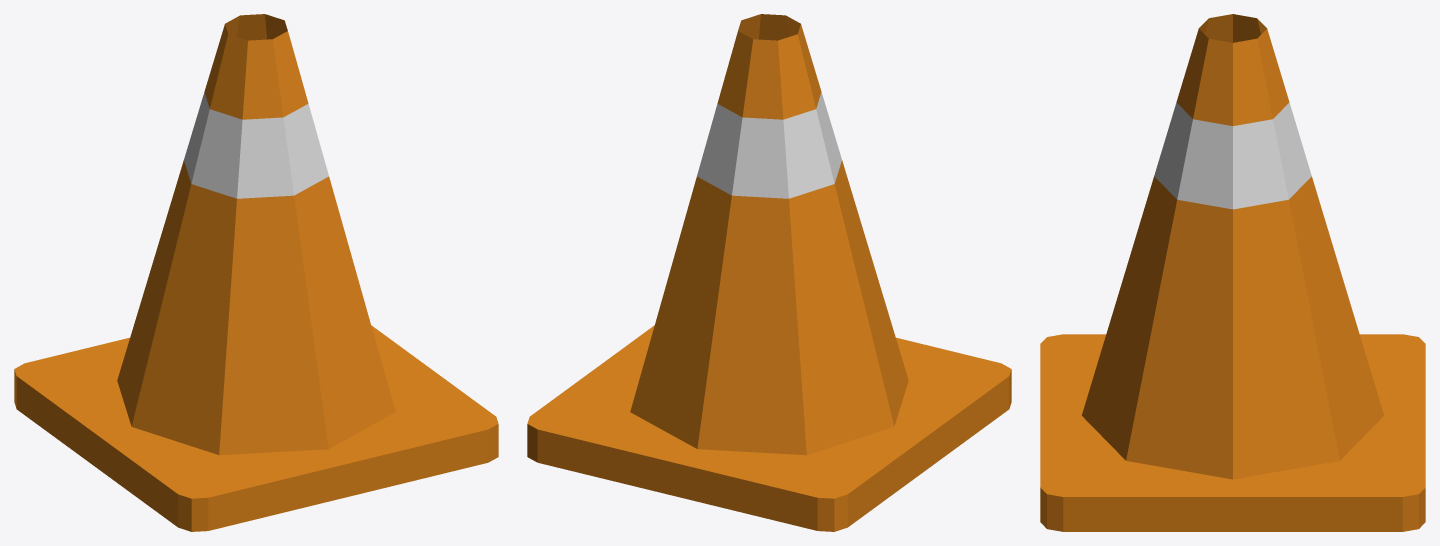
File: road_cone.fbx
3 views of the same model, side by side, from view 1: azimuth 30°, elevation 25°; view 2: azimuth 150°, elevation 25°; view 3: azimuth 270°, elevation 25° (orthographic). The views are drawn at different scales.
Parts seen in each view (by area): view 1: cone; view 2: cone; view 3: cone.
Part boxes in pixels (bbox=[...]): cone: bbox=[14, 14, 498, 531]; cone: bbox=[527, 14, 1011, 531]; cone: bbox=[1040, 14, 1425, 531].
Bounding box in the file's own units: 16 × 19.34 × 16.
